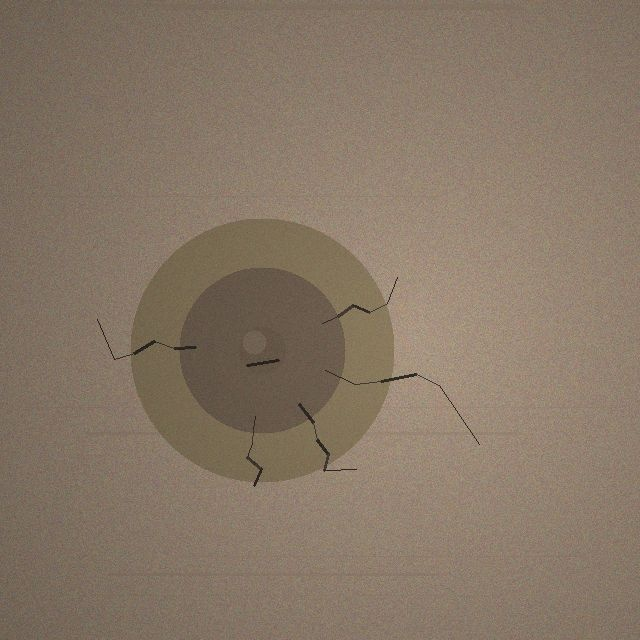crack: (130, 218, 394, 482)
